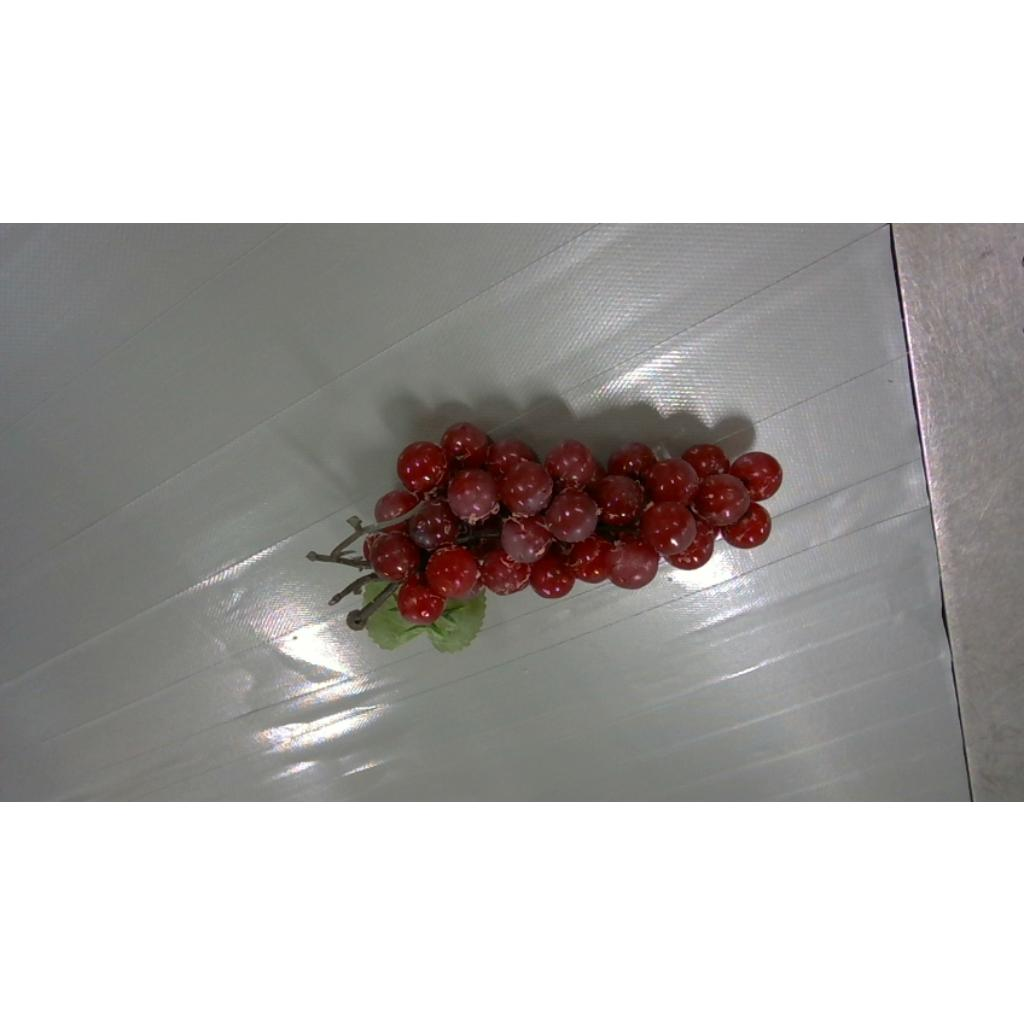grape: (308, 422, 782, 651)
